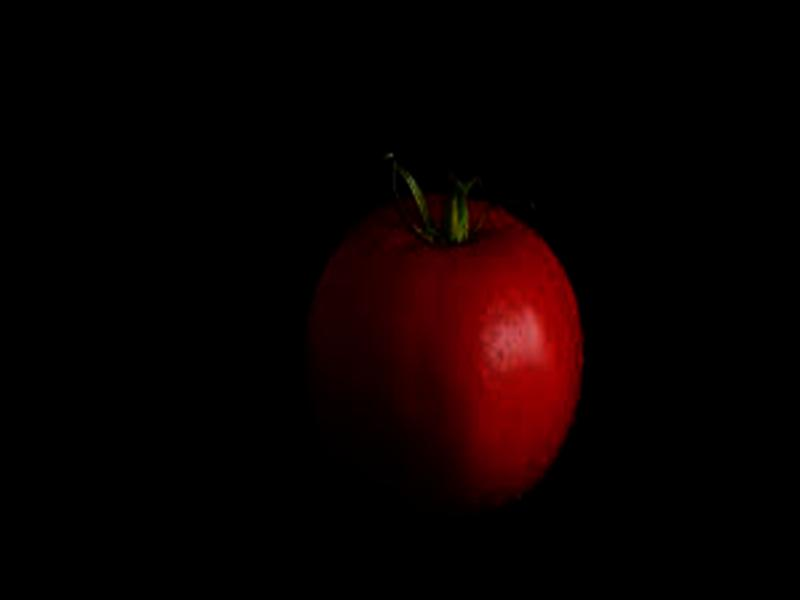Tomato: (304, 193, 582, 507)
